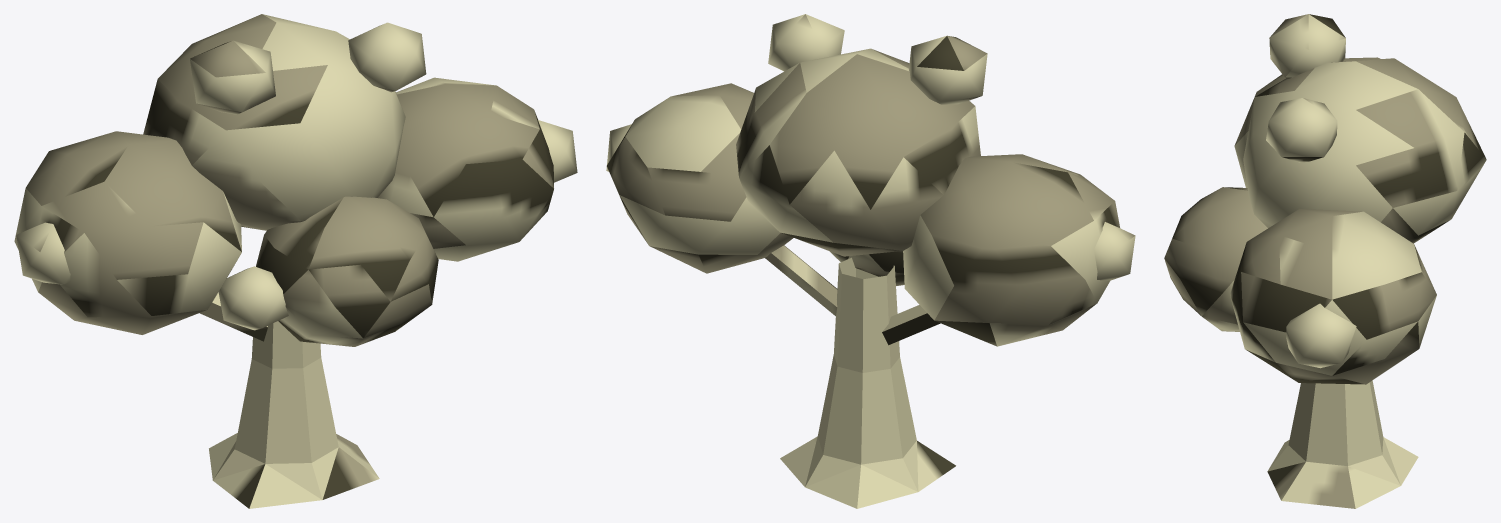
File: tree_v3.fbx
The picture shows the model from 3 angles, left to right: view 1: azimuth 30°, elevation 25°; view 2: azimuth 150°, elevation 25°; view 3: azimuth 270°, elevation 25°; orthographic projection. The views are drawn at different scales.
Visible parts, largest first — view 1: prop; view 2: prop; view 3: prop.
Part boxes in pixels (x1=…): prop: x1=14, y1=14, x2=577, y2=508; prop: x1=606, y1=14, x2=1135, y2=508; prop: x1=1164, y1=14, x2=1486, y2=508.
Size of the model in its own units: 1.99 by 1.6 by 1.09.
